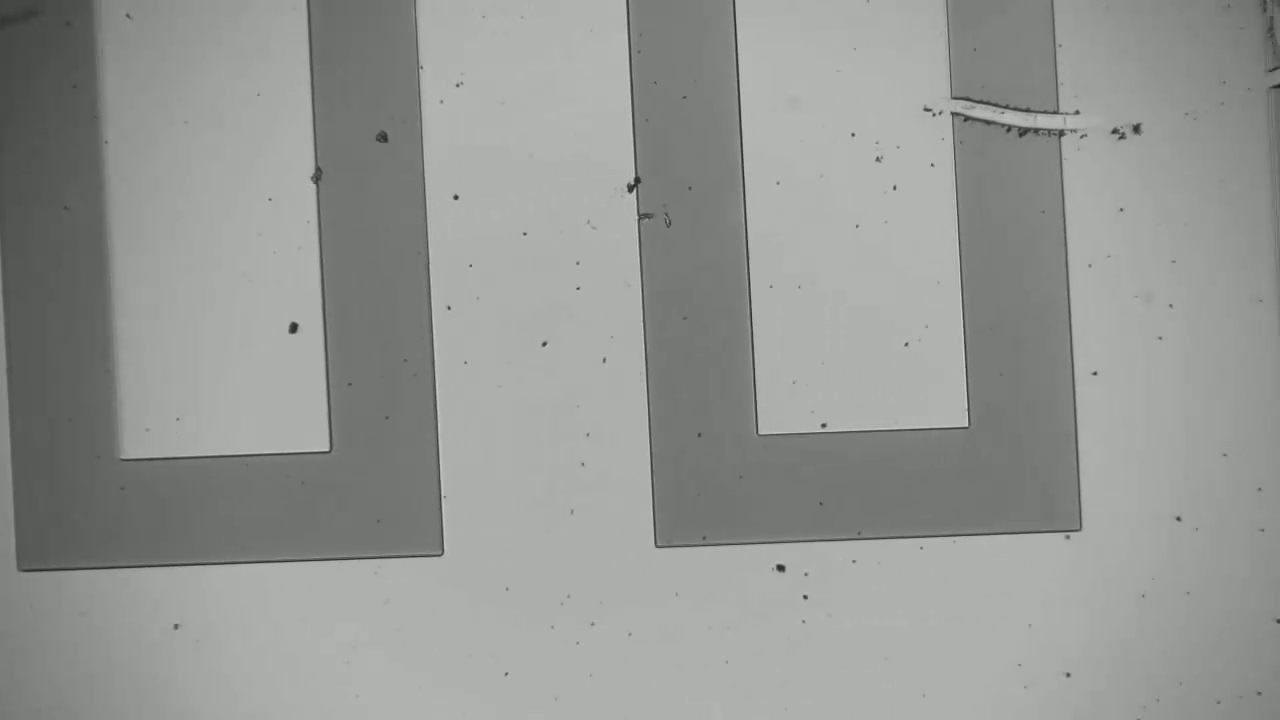Short_circuit: (925, 76, 1093, 159)
